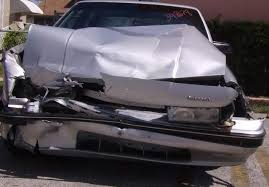Smashed: (9, 25, 264, 148)
